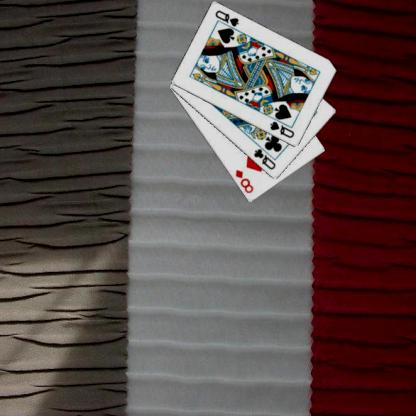8D: (234, 167, 256, 195)
QC: (253, 146, 279, 172)
QS: (269, 119, 297, 139), (214, 8, 242, 28)
